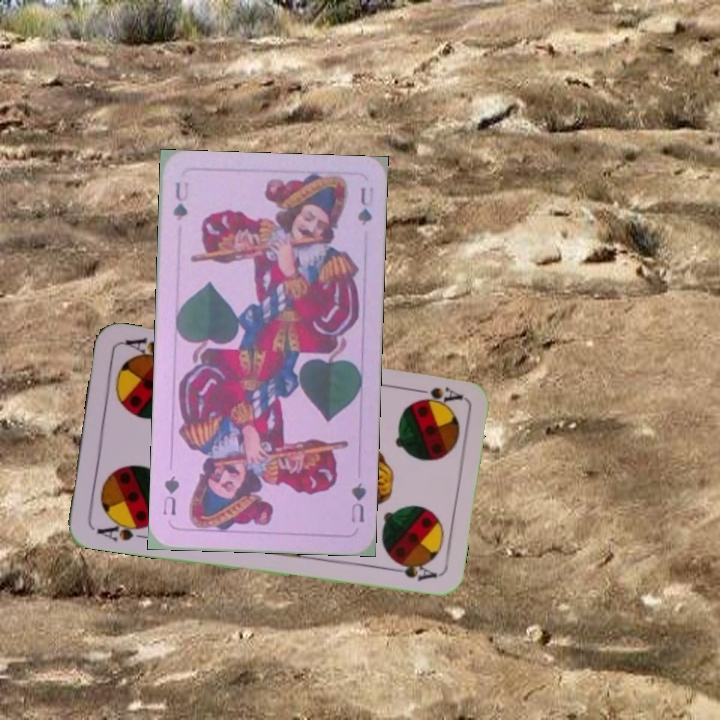GU: (169, 177, 192, 223), (347, 478, 369, 525)
SA: (93, 516, 152, 544), (406, 383, 465, 405)
